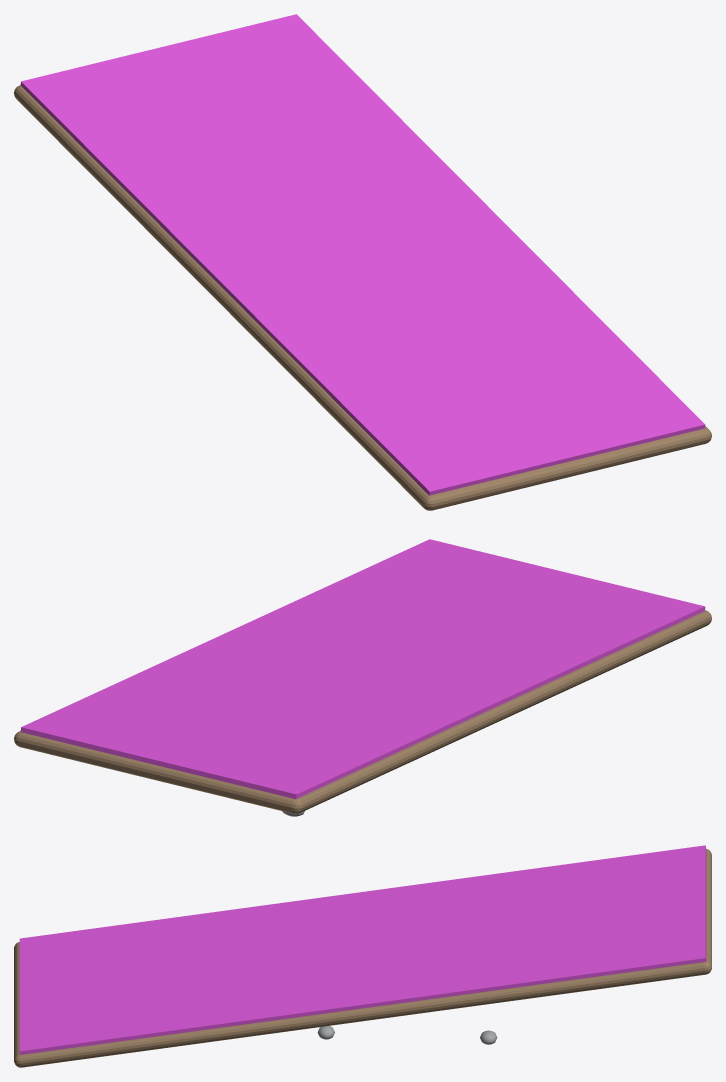
The model's file is forest_path_dirt_slope_down_lod0_v1.glb.
3 renders of one model, top to bottom at view 1: azimuth 30°, elevation 25°; view 2: azimuth 150°, elevation 25°; view 3: azimuth 270°, elevation 25°, orthographic. The views are drawn at different scales.
Parts seen in each view (by area): view 1: NAV_MASK_FOREST_PATH_DIRT_SLOPE_DOWN_SLOPE, LOD0_FOREST_PATH_DIRT_SLOPE_DOWN_Slope; view 2: NAV_MASK_FOREST_PATH_DIRT_SLOPE_DOWN_SLOPE, LOD0_FOREST_PATH_DIRT_SLOPE_DOWN_Slope; view 3: NAV_MASK_FOREST_PATH_DIRT_SLOPE_DOWN_SLOPE, LOD0_FOREST_PATH_DIRT_SLOPE_DOWN_Slope.
Boxes of the visible parts, x1,y1,x2,y2 form: NAV_MASK_FOREST_PATH_DIRT_SLOPE_DOWN_SLOPE: [20, 14, 705, 495]; LOD0_FOREST_PATH_DIRT_SLOPE_DOWN_Slope: [14, 85, 711, 510]; NAV_MASK_FOREST_PATH_DIRT_SLOPE_DOWN_SLOPE: [20, 539, 705, 799]; LOD0_FOREST_PATH_DIRT_SLOPE_DOWN_Slope: [14, 610, 711, 813]; NAV_MASK_FOREST_PATH_DIRT_SLOPE_DOWN_SLOPE: [19, 845, 706, 1054]; LOD0_FOREST_PATH_DIRT_SLOPE_DOWN_Slope: [14, 849, 711, 1067].
Size of what is drawn, in the model's own units: 3.2 by 1.38 by 8.
